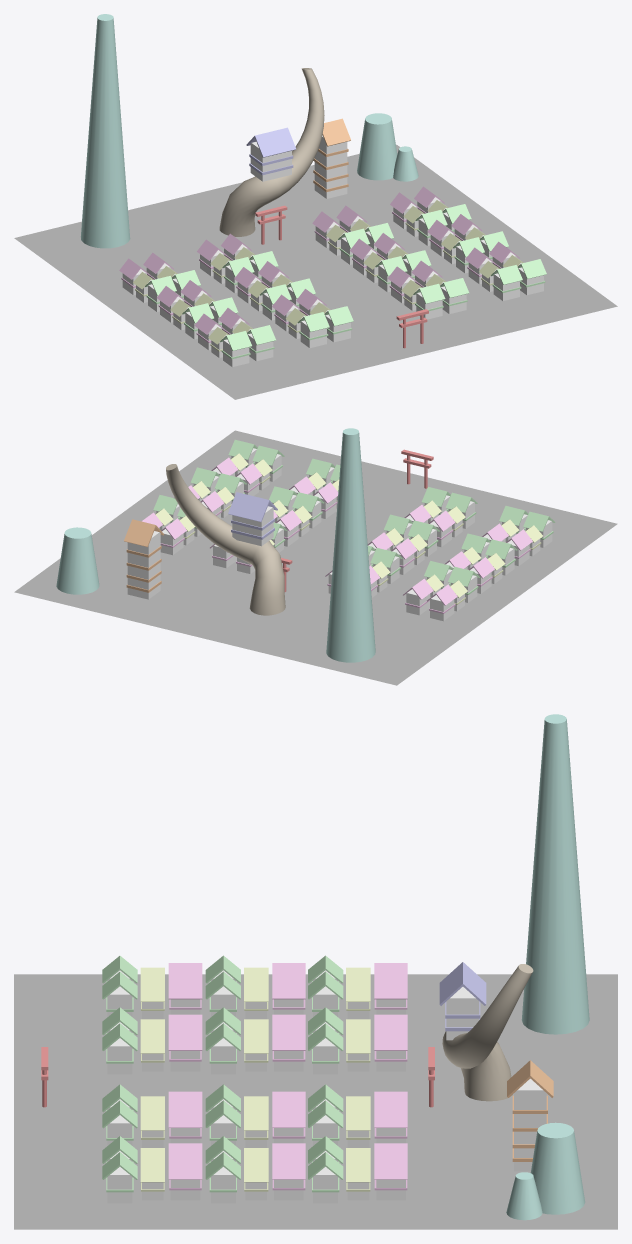
The model's file is blocking_rv_sofia_lopez.glb.
3 views of the same model, one above another, from view 1: azimuth 30°, elevation 25°; view 2: azimuth 150°, elevation 25°; view 3: azimuth 270°, elevation 25° (orthographic). The views are drawn at different scales.
Visible parts, largest first — view 1: Plane001, Cone001, Cone002, Cone003, Box296, Box001, Box002, Cone004, Box297; view 2: Plane001, Cone001, Cone002, Cone003, Box296, Box001, Box003, Box298, Torii_1, Box152, Box188, Box080; view 3: Plane001, Cone001, Cone002, Cone003, Box296, Cone004, Box001, Box148, Box292, Box124, Box136, Box268 (+13 smaller).
Part boxes in pixels (x1,y1,x2,y2): Plane001: (14, 144, 617, 399); Cone001: (80, 14, 130, 248); Cone002: (219, 68, 324, 236); Cone003: (357, 113, 397, 180); Box296: (314, 135, 347, 198); Box001: (250, 141, 291, 181); Box002: (254, 127, 295, 157); Cone004: (393, 146, 418, 181); Box297: (322, 118, 350, 146); Plane001: (14, 430, 617, 685); Cone001: (326, 428, 375, 662); Cone002: (166, 464, 285, 615); Cone003: (56, 527, 99, 594); Box296: (127, 531, 160, 599); Box001: (232, 506, 273, 546); Box003: (228, 492, 269, 522); Box298: (124, 519, 155, 547); Torii_1: (401, 449, 433, 488); Box152: (430, 595, 454, 621); Box188: (406, 589, 430, 615); Box080: (160, 529, 183, 555); Plane001: (14, 974, 617, 1229); Cone001: (521, 714, 589, 1034); Cone002: (442, 964, 533, 1101); Cone003: (530, 1122, 585, 1214); Box296: (514, 1078, 546, 1171); Cone004: (506, 1172, 542, 1220); Box001: (446, 987, 479, 1040); Box148: (107, 1167, 132, 1203); Box292: (107, 1038, 132, 1074); Box124: (313, 1167, 337, 1203); Box136: (211, 1167, 235, 1203); Box268: (313, 1038, 337, 1074).
Bounding box in the file's own units: 10.16 × 5.62 × 10.16.
